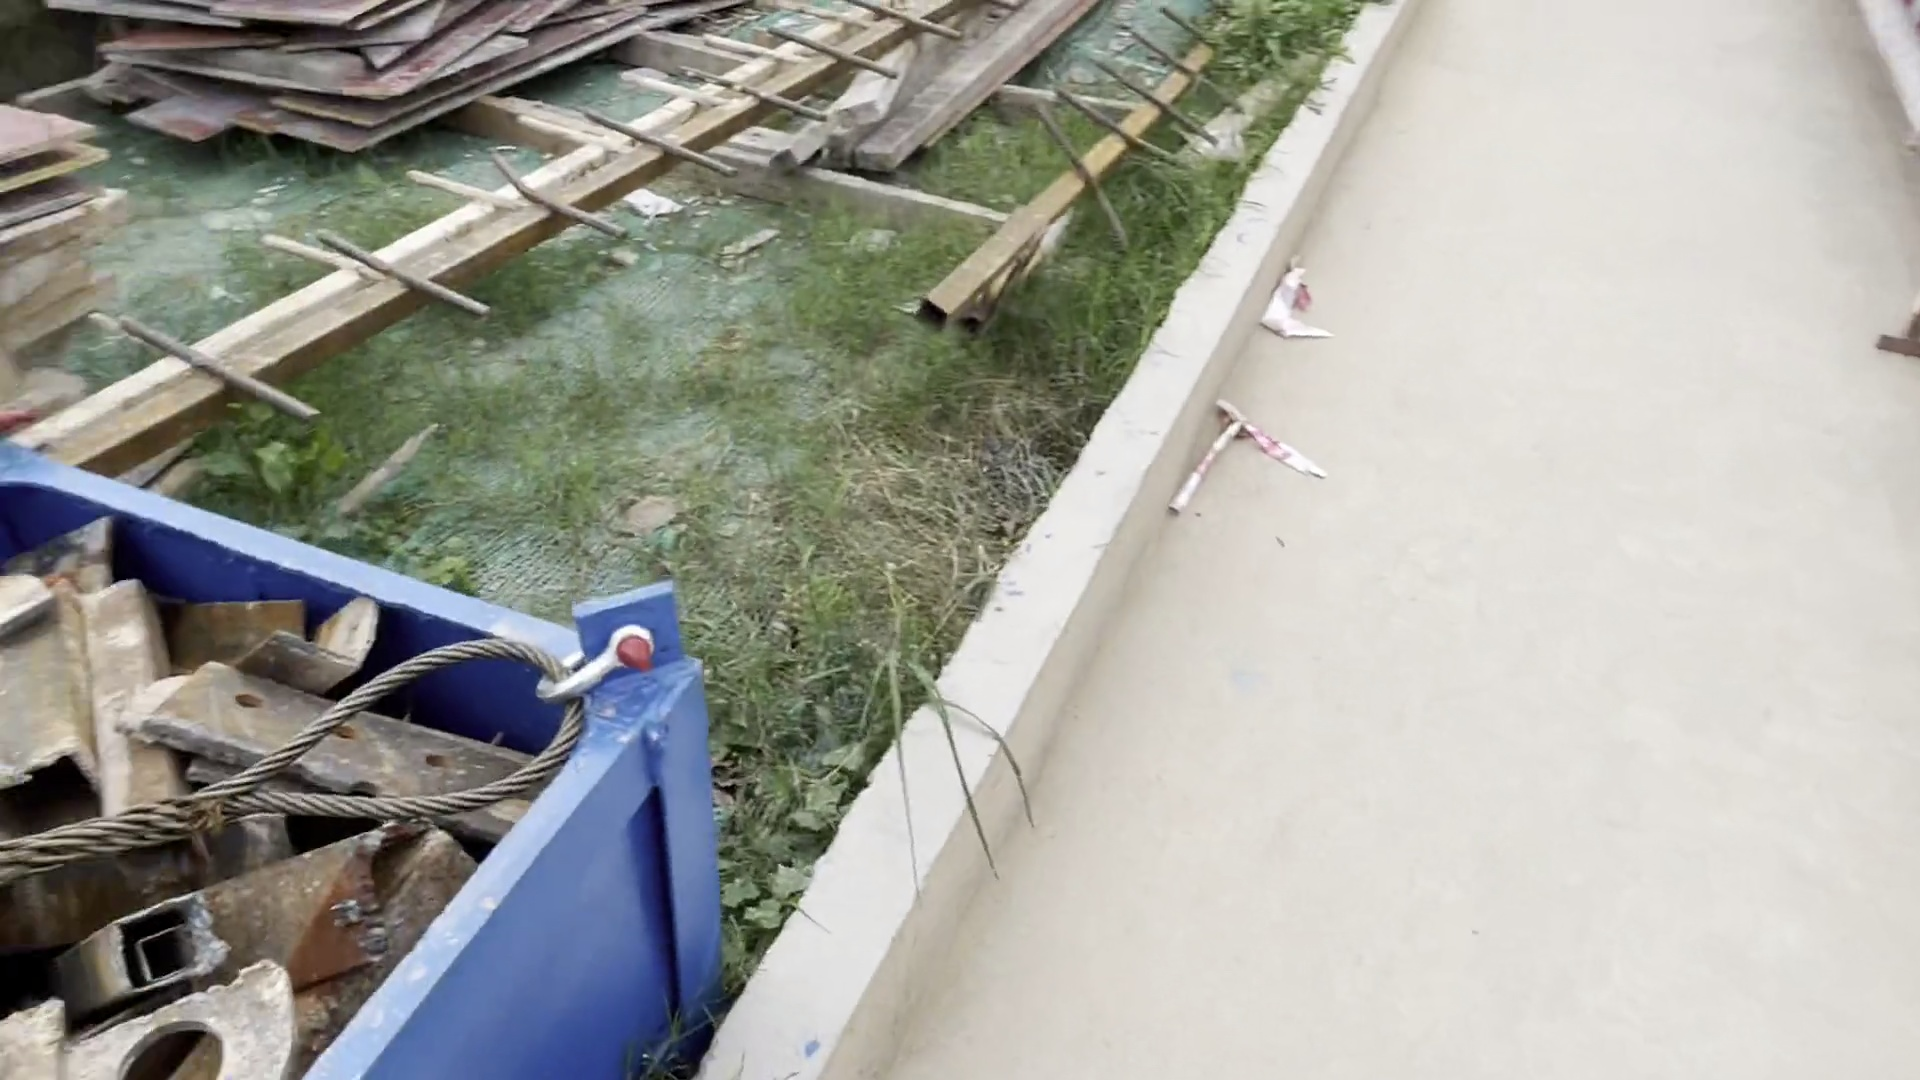board: (121, 1, 626, 198)
hopper: (1, 439, 753, 1080)
